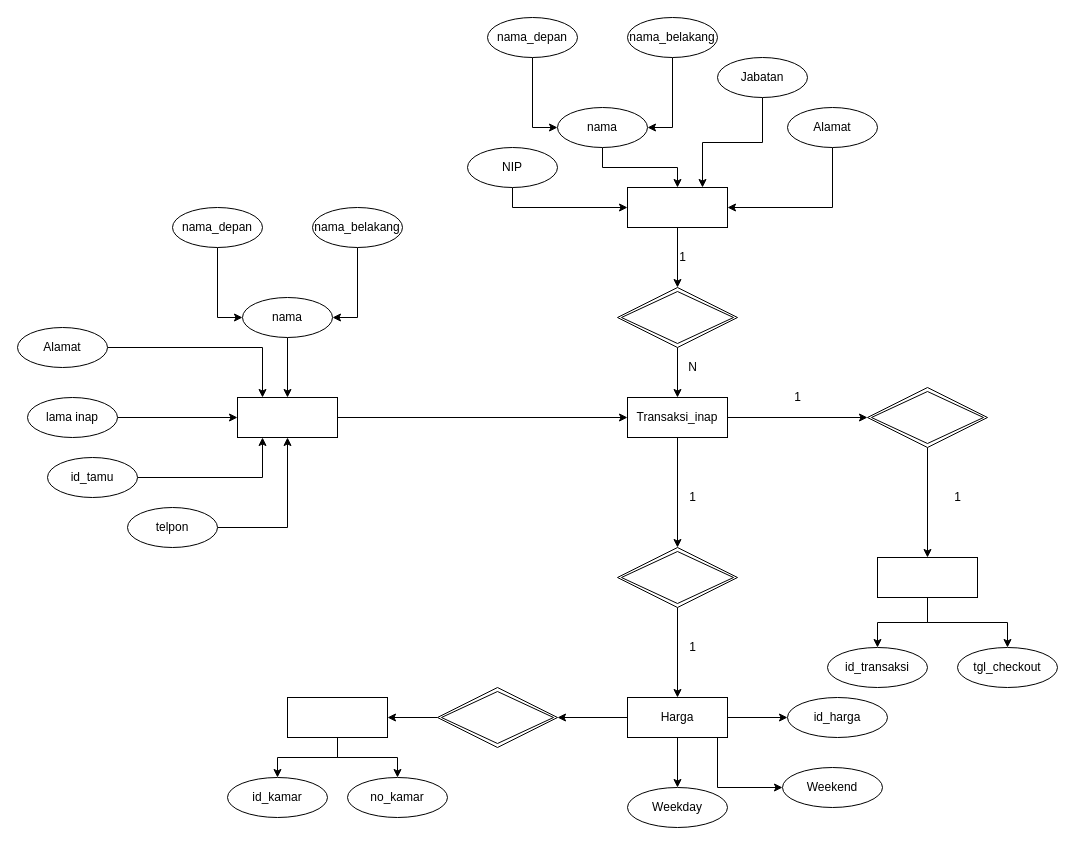
This 1075x845 diagram has some shape labels left out. The shapes that lost their labels are listed below. From the top down, each one's centre as x and y in pixels, then its label:
At point 677,207: "Pegawai".
At point 677,317: "Melayani".
At point 287,417: "Tamu".
At point 927,417: "Pasti".
At point 677,577: "untuk".
At point 927,577: "Transaksi Checkout".
At point 337,717: "Kamar".
At point 497,717: "Mempunyai".
